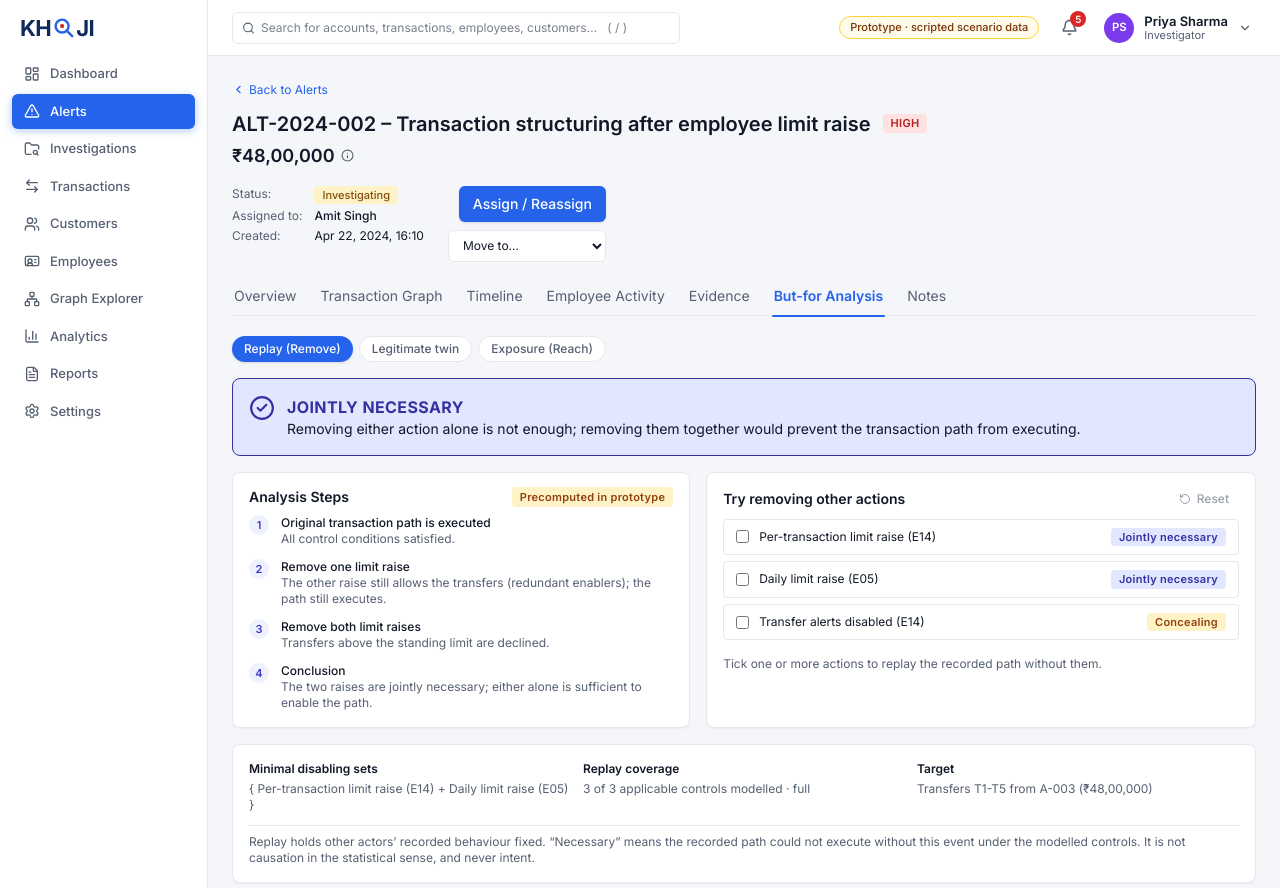
Test: But-for Replay UI › S2: either raise alone still passes, both together fail (jointly necessary)
Expected: the message with test id "replay-banner" shows "JOINTLY NECESSARY", [287, 396, 464, 416]
Click the checkbox labelled "Per-transaction limit raise (E14) Jointly necessary" at x=743, y=537, box [736, 530, 749, 543]
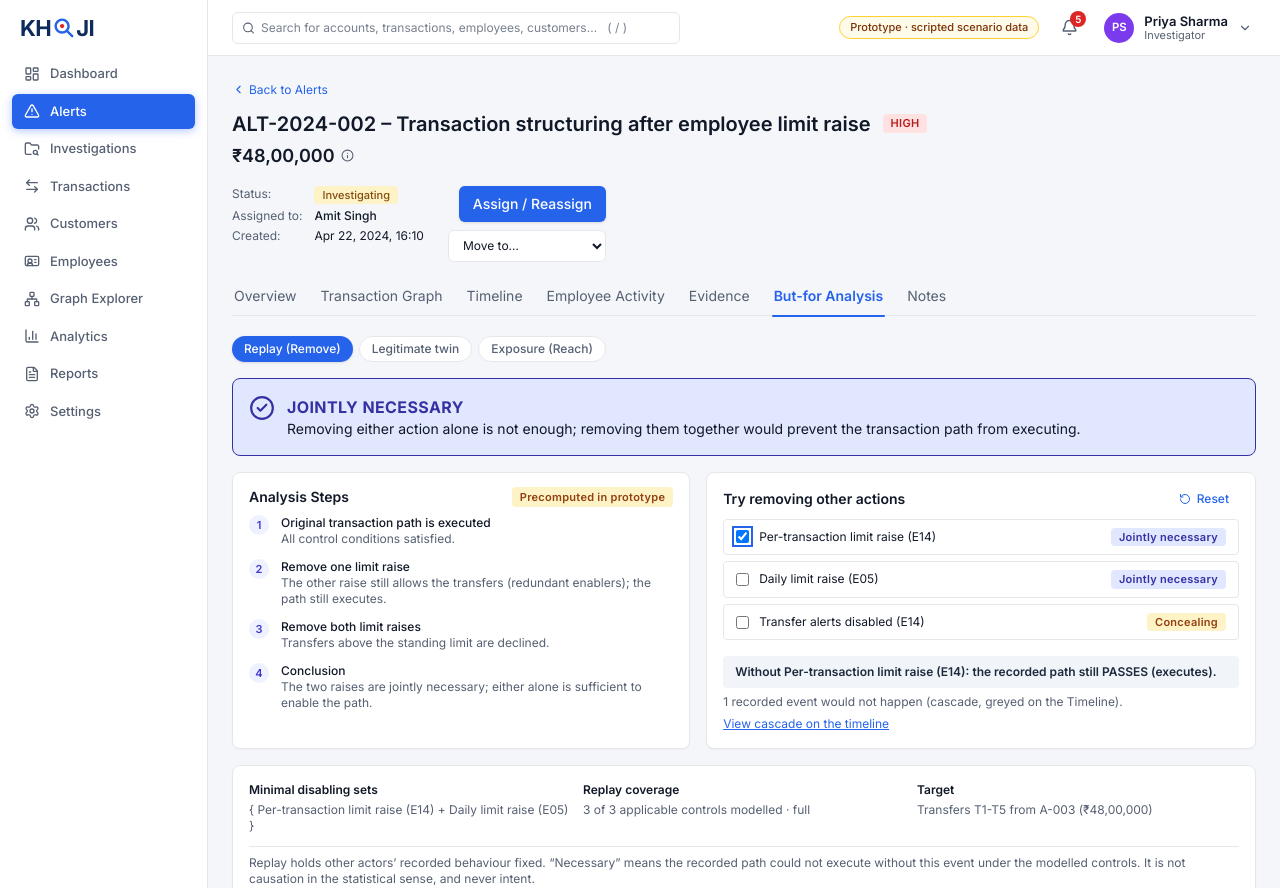
Result: the element with test id "replay-outcome" shows "still PASSES" at [1079, 664, 1213, 680]
Click the checkbox labelled "Daily limit raise (E05) Jointly necessary" at x=743, y=580, box [736, 573, 749, 586]
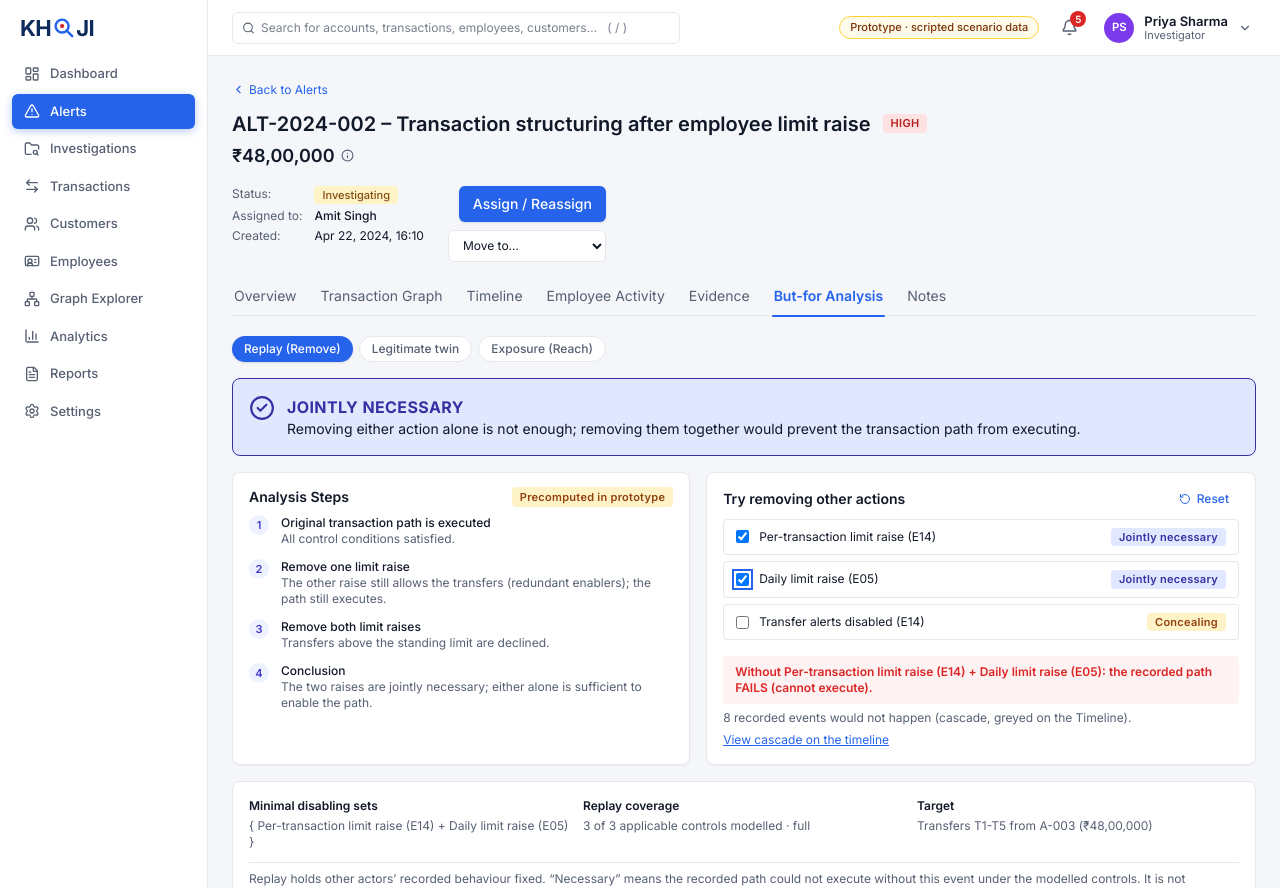
Result: the element with test id "replay-outcome" shows "FAILS" at [735, 680, 869, 696]
